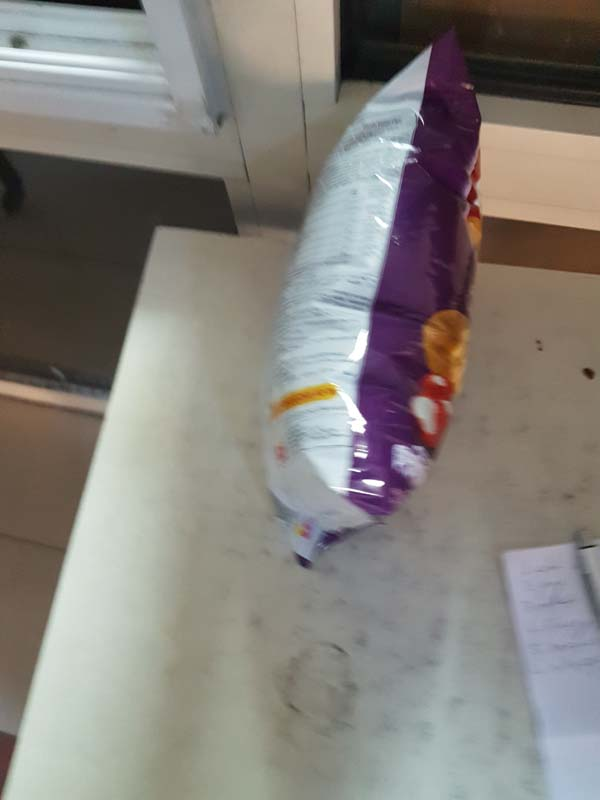layspeynirsoslu: (261, 28, 485, 557)
